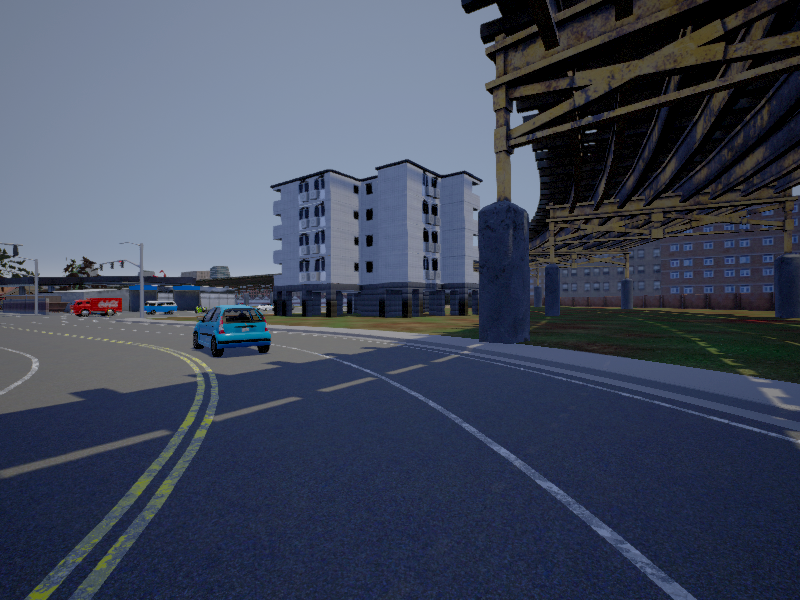Benign: (192, 306, 272, 356), (70, 300, 124, 317), (144, 301, 177, 316)
